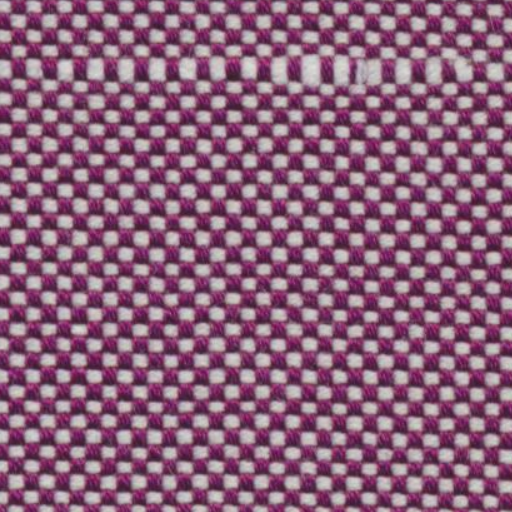DaiSha: (4, 38, 500, 102)
